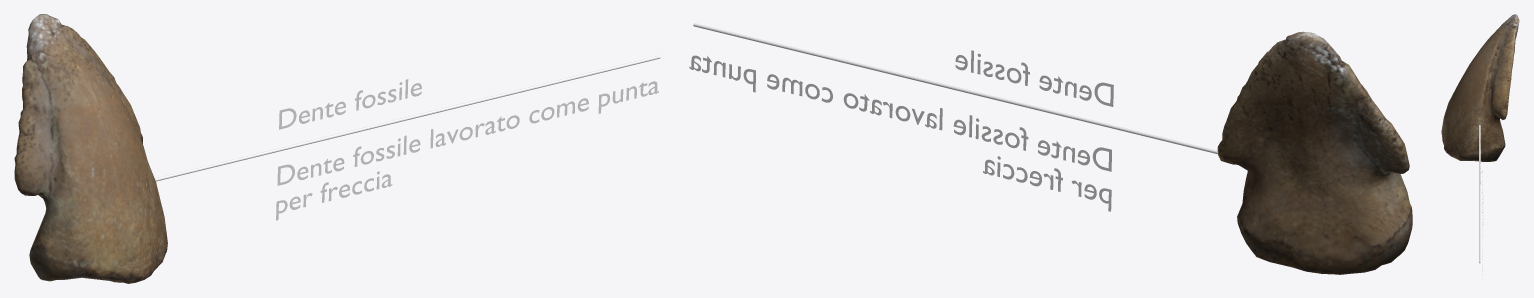
The model's file is Fossile4.gltf.
3 views of the same model, side by side, from view 1: azimuth 30°, elevation 25°; view 2: azimuth 150°, elevation 25°; view 3: azimuth 270°, elevation 25° (orthographic). The views are drawn at different scales.
Visible parts, largest first — view 1: fossil15, Text, riga; view 2: fossil15, Text, riga; view 3: fossil15, riga, Text.
Part boxes in pixels (left/top/right/bottom): fossil15: left=14, top=14, right=167, bottom=283; Text: left=276, top=79, right=658, bottom=220; riga: left=155, top=55, right=660, bottom=181; fossil15: left=1217, top=31, right=1412, bottom=274; Text: left=689, top=50, right=1113, bottom=211; riga: left=693, top=23, right=1217, bottom=154; fossil15: left=1441, top=14, right=1519, bottom=161; riga: left=1479, top=125, right=1480, bottom=263; Text: left=1480, top=139, right=1483, bottom=273.
Bounding box in the file's own units: 4.71 × 1.67 × 0.8905.
2 materials, 1 textured.
